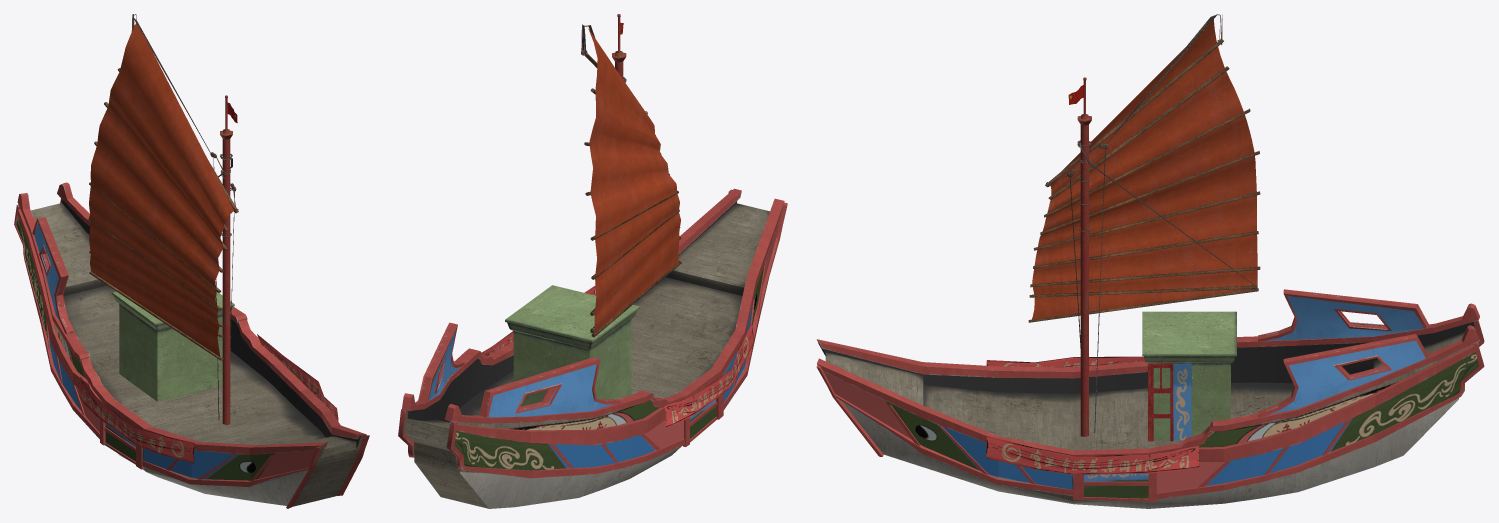
File: boat.fbx
The picture shows the model from 3 angles, left to right: view 1: azimuth 30°, elevation 25°; view 2: azimuth 150°, elevation 25°; view 3: azimuth 270°, elevation 25°; orthographic projection. The views are drawn at different scales.
Visible parts, largest first — view 1: front1, sail1; view 2: front1, sail1; view 3: front1, sail1.
Part boxes in pixels (left/top/right/bottom): front1: left=14, top=182, right=369, bottom=508; sail1: left=89, top=14, right=238, bottom=424; front1: left=398, top=188, right=787, bottom=508; sail1: left=581, top=14, right=681, bottom=337; front1: left=816, top=289, right=1484, bottom=508; sail1: left=1028, top=14, right=1260, bottom=436.
Bounding box in the file's own units: 926 × 1904 × 2603.
Materials: 2 (2 with a texture image).
